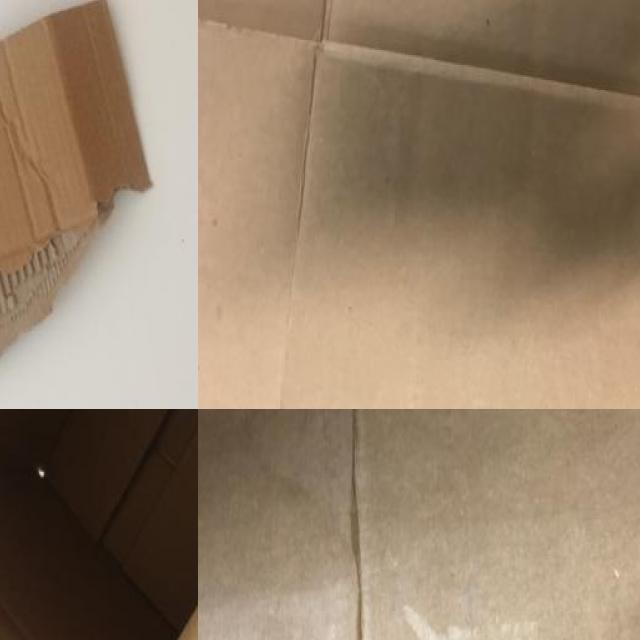class_name: (198, 0, 640, 409), (198, 409, 640, 640), (0, 0, 159, 409), (0, 409, 198, 640)
